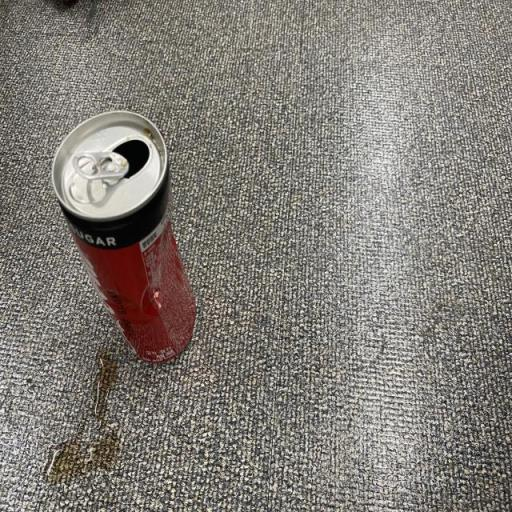metal: (34, 102, 228, 395)
